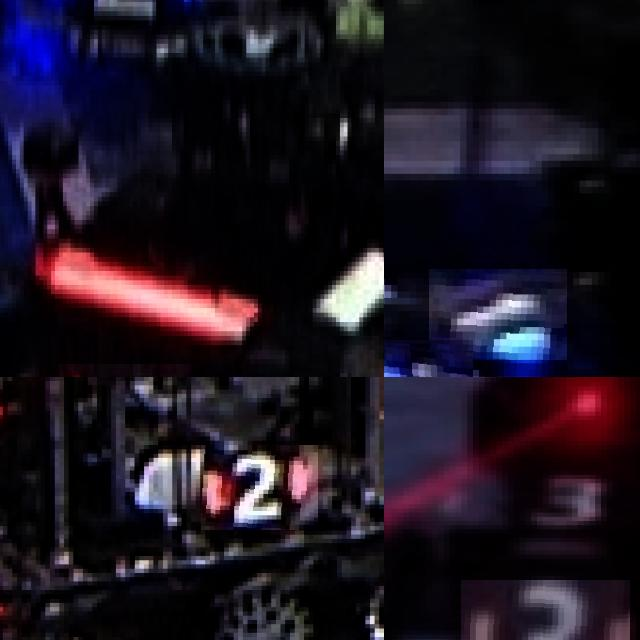B1: (429, 269, 567, 360), (384, 340, 472, 377)
R2: (201, 445, 318, 530)
R3: (461, 580, 629, 640)
